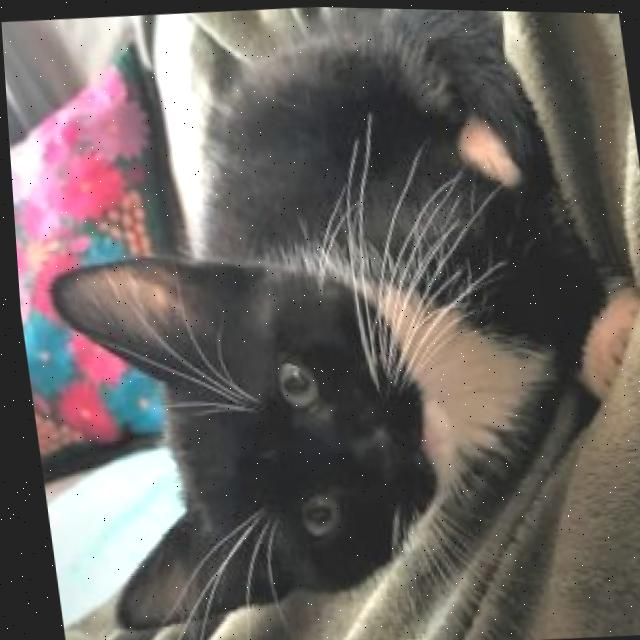Tuxedo: (5, 0, 640, 640)
